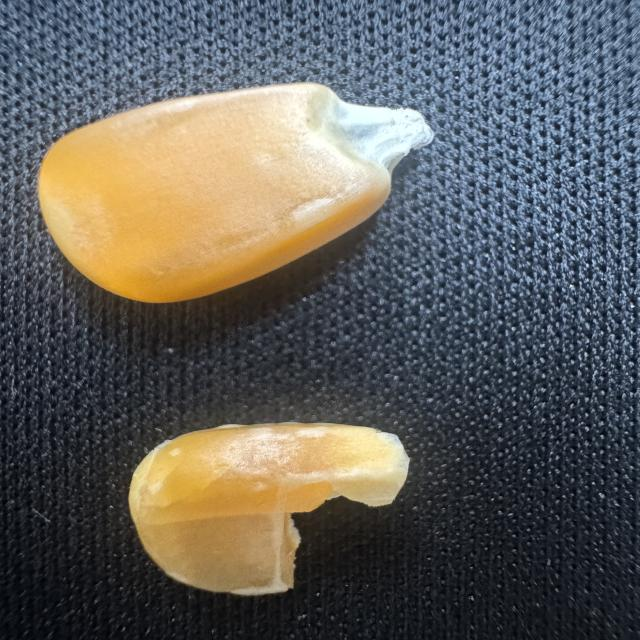Bad-Seed: (121, 410, 419, 607)
Good-Seed: (26, 72, 436, 306)
